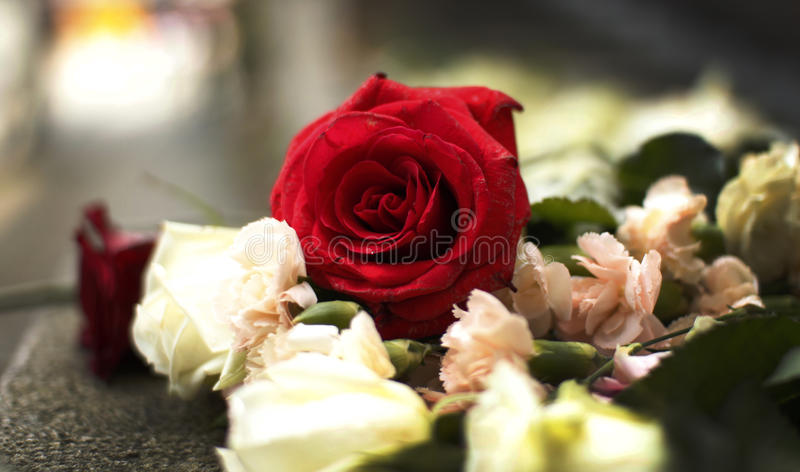RedRose: (267, 59, 529, 315), (75, 208, 151, 372)
